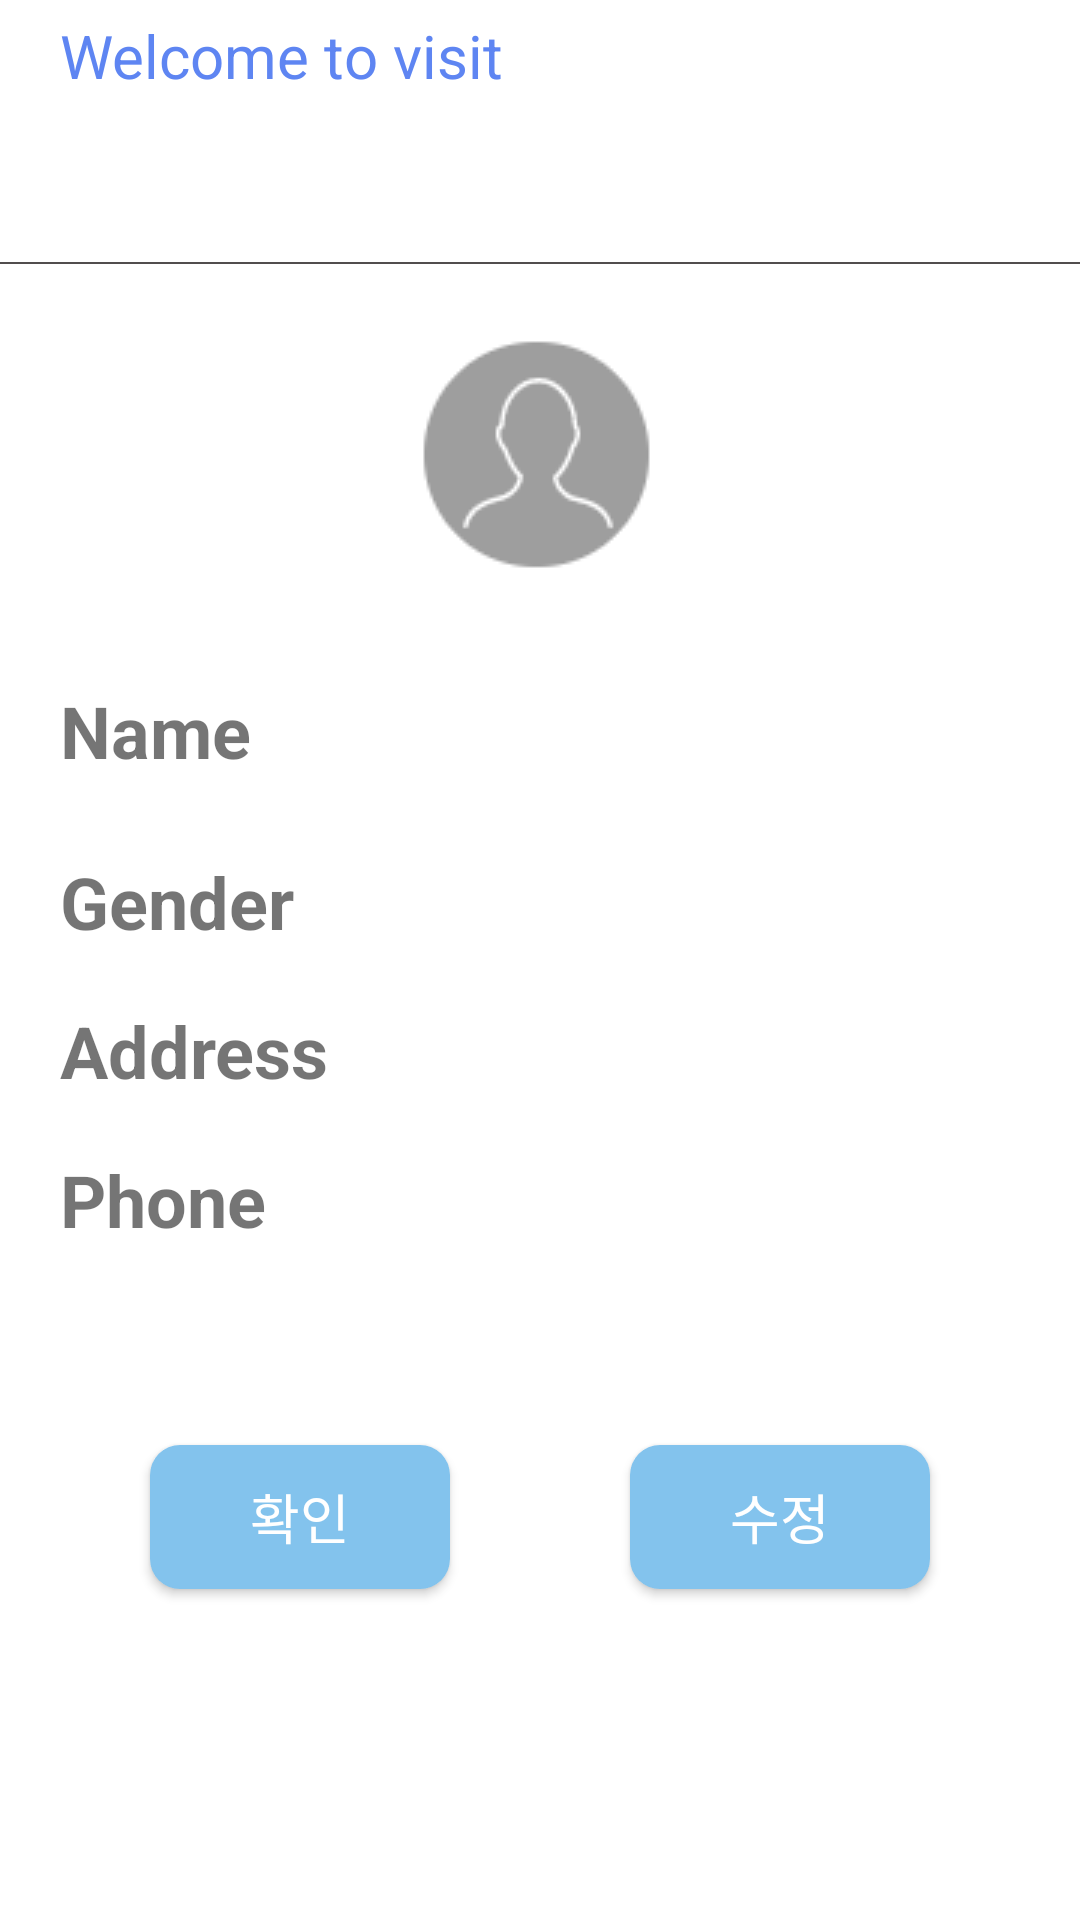

Screen size 1080px×1920px. Icon name, then its box in pixels as bbox=(x1, y1, x2, y2):
photo: bbox=(423, 341, 650, 568)
